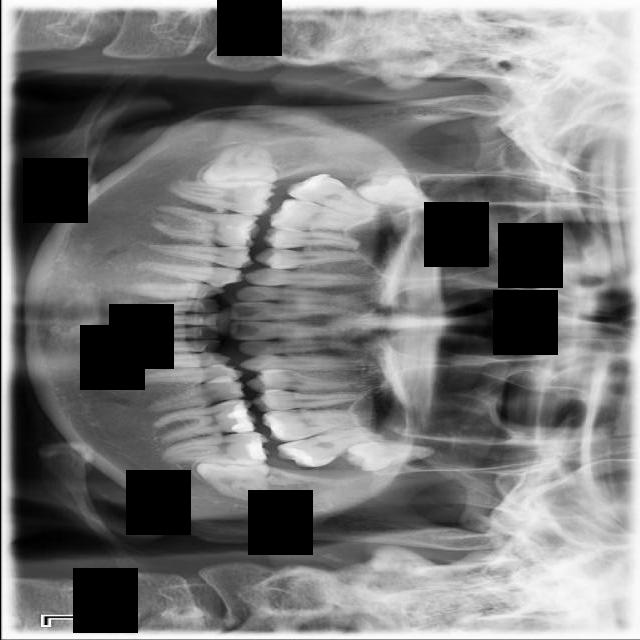3M ESPE Implant: (355, 174, 436, 208)
52: (149, 205, 262, 251), (282, 168, 347, 209), (274, 433, 337, 474), (259, 406, 314, 445), (206, 398, 257, 434), (221, 430, 271, 466), (253, 247, 302, 269), (261, 227, 304, 250)
73: (58, 594, 66, 600)
BioHorizons Implant: (274, 420, 385, 476)
BioLife Implant: (344, 442, 435, 471)
Biomet 3i Implant: (193, 456, 270, 502)
Blue Sky Bio Implant: (161, 427, 270, 466)
Caries: (284, 164, 393, 222)
Implant: (166, 179, 277, 217)
Keystone Dental Implant: (196, 139, 279, 200)
